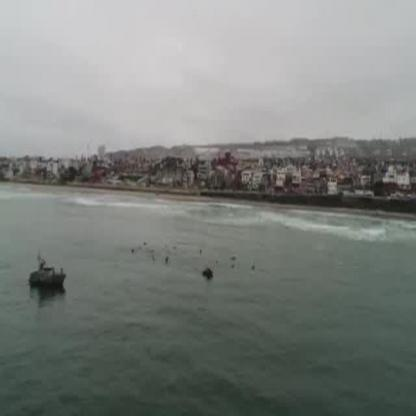Boat: (25, 251, 72, 298)
